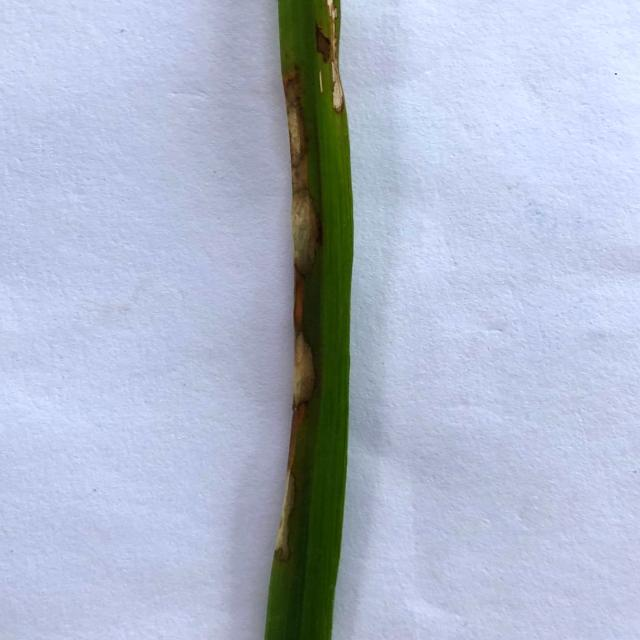leaf blight: (278, 61, 321, 274), (286, 273, 320, 436), (314, 0, 344, 109), (274, 445, 296, 566)
